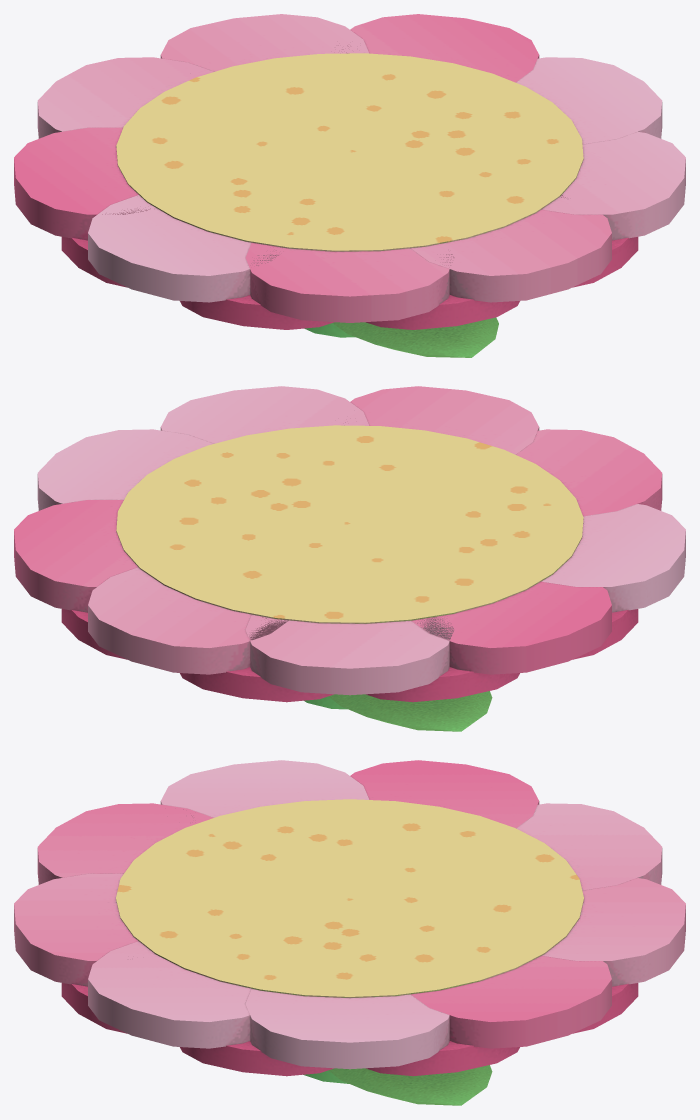
Rendered from dash_platform.fbx.
3 views of the same model, one above another, from view 1: azimuth 30°, elevation 25°; view 2: azimuth 150°, elevation 25°; view 3: azimuth 270°, elevation 25° (orthographic).
Parts seen in each view (by area): view 1: dash_platform; view 2: dash_platform; view 3: dash_platform.
Boxes of the visible parts, box(x1,y1,x2,y2) form: dash_platform: box(14, 14, 685, 357); dash_platform: box(14, 386, 685, 731); dash_platform: box(14, 760, 685, 1105).
Bounding box in the file's own units: 1599 × 421 × 1608.
Materials: 1 (1 with a texture image).
